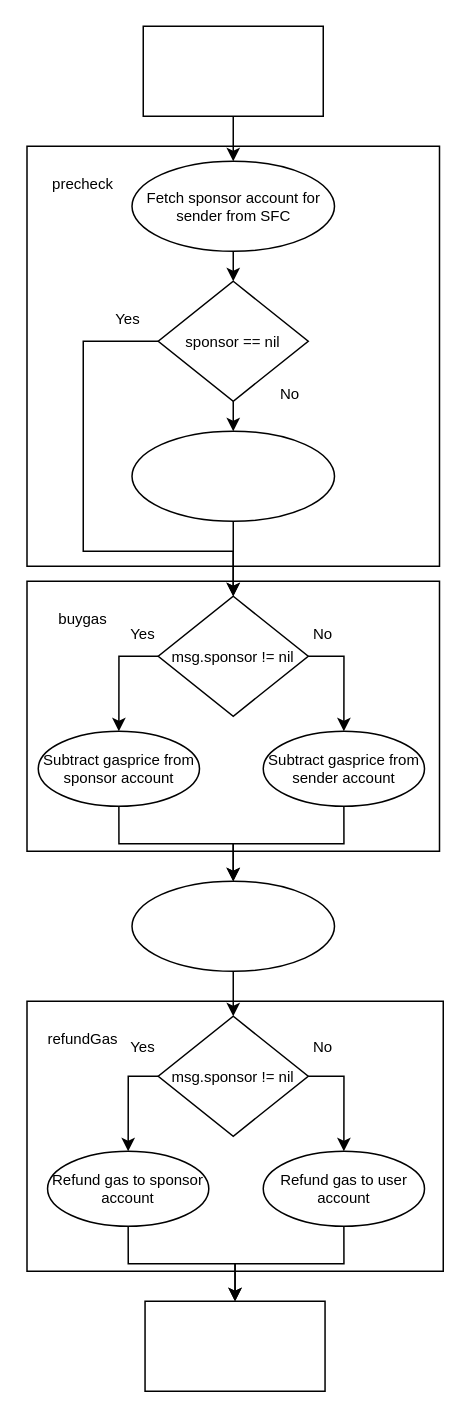
Image size: 470x1418. Some labels were removed from this diagram. The shapes that lost their labels are listed below. From the top down, each one's centre as x and y in pixels, then its label:
At (232,70): "Transaction has been received by the node".
At (232,475): "Set fetched sponsor as message sponsor".
At (232,925): "Execute current transaction".
At (234,1345): "Done".
